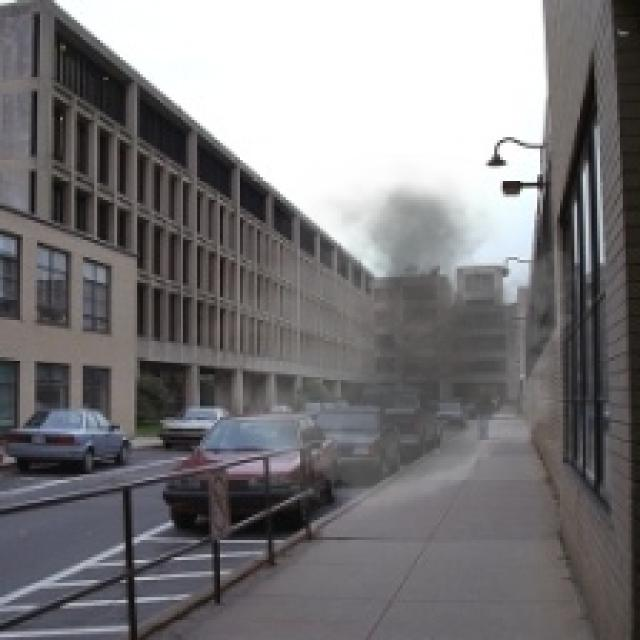smoke: (189, 154, 594, 529)
